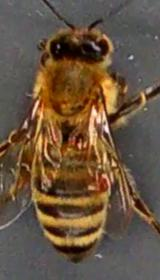varroa_mite: (88, 157, 115, 201)
